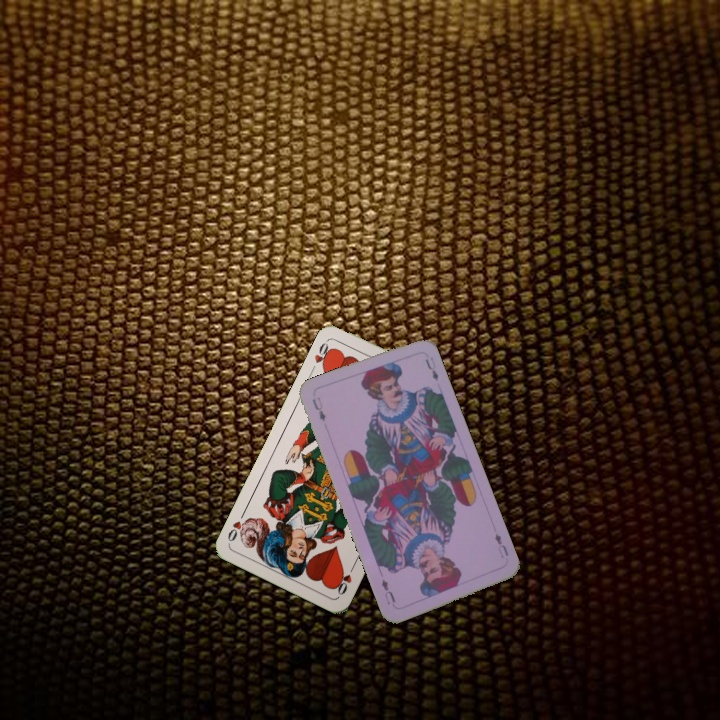EU: (491, 529, 511, 560), (308, 393, 328, 424)
HO: (307, 337, 335, 375), (331, 560, 358, 598)
